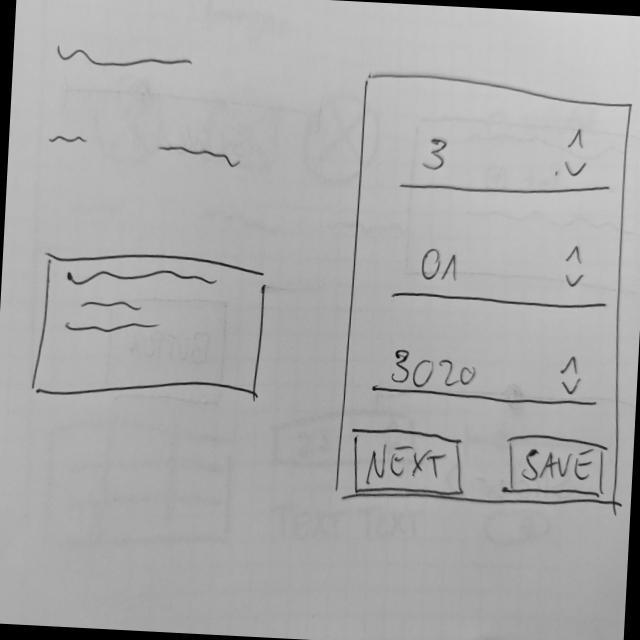button: (349, 426, 468, 501), (504, 432, 610, 500)
container: (331, 67, 640, 517)
number-input: (396, 116, 617, 207), (390, 230, 612, 313), (371, 338, 602, 412)
text: (50, 39, 199, 79), (154, 143, 245, 176), (47, 128, 94, 151)
textbox: (31, 248, 271, 411)
